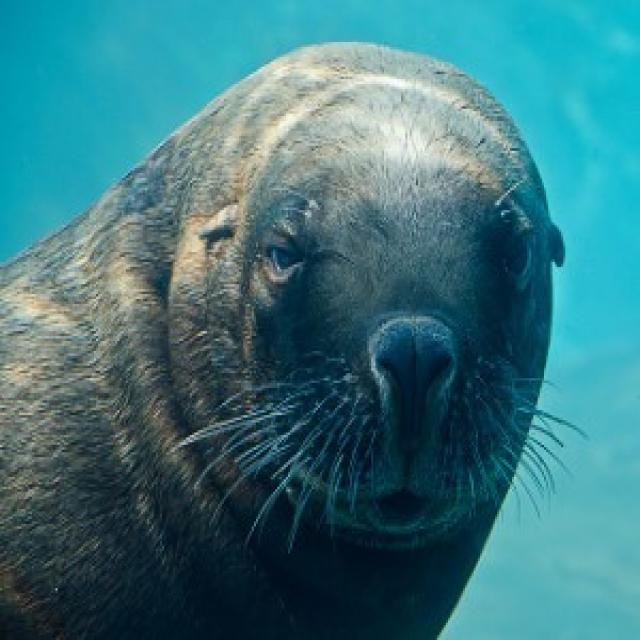Seal: (0, 36, 568, 627)
